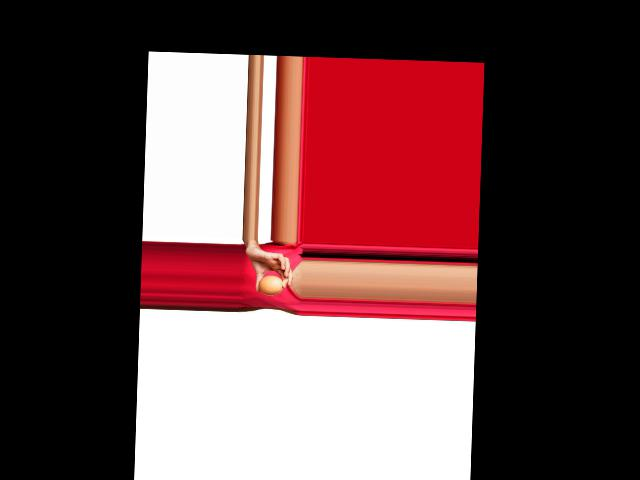egg: (258, 274, 284, 295)
